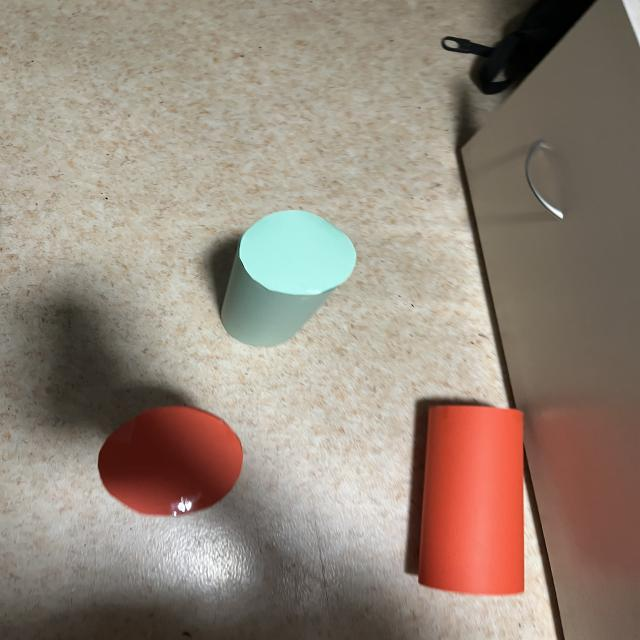meta: (220, 210, 356, 347)
przeszkoda: (418, 405, 524, 595), (98, 406, 243, 515)
